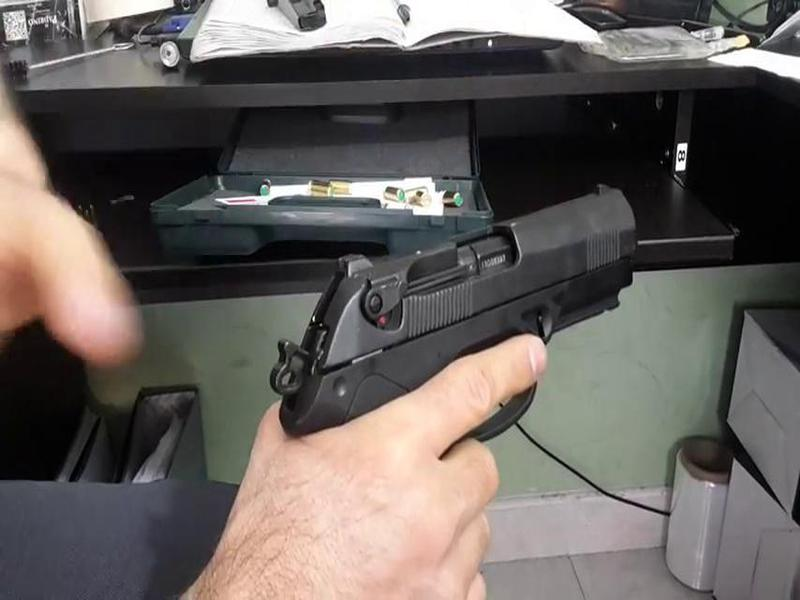Pistola: (255, 170, 646, 474)
